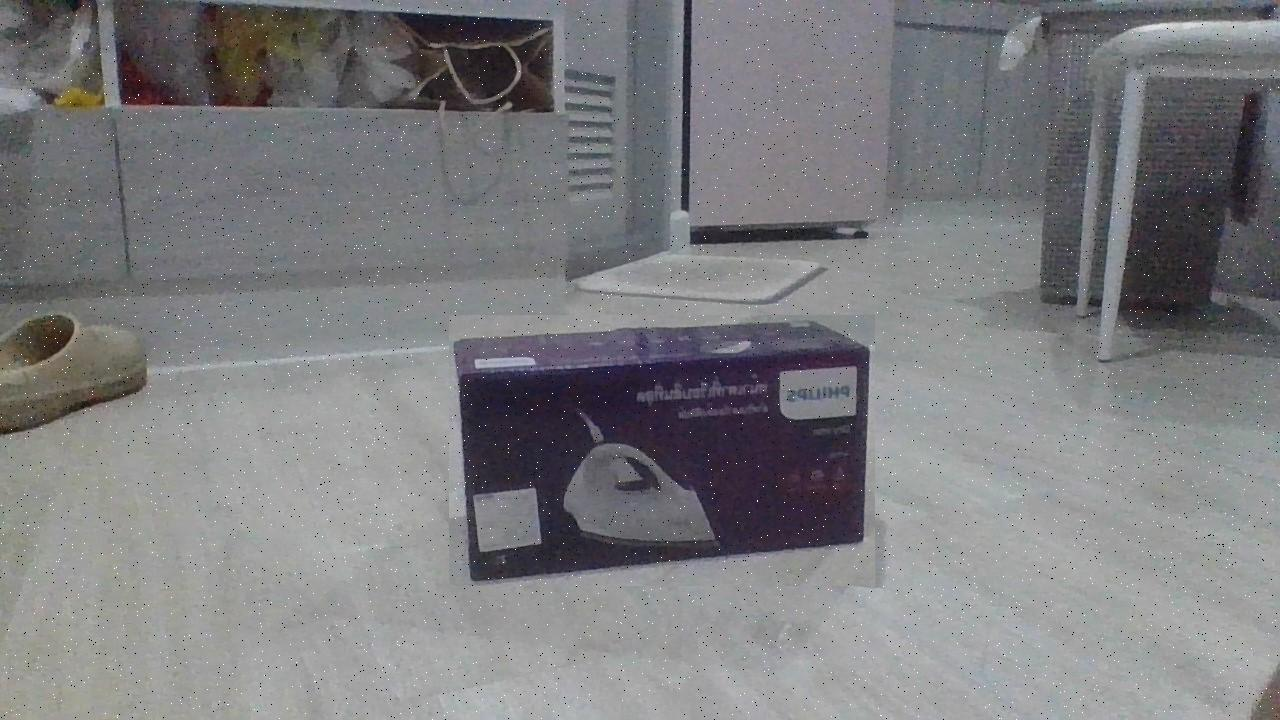IRON: (449, 315, 875, 586)
